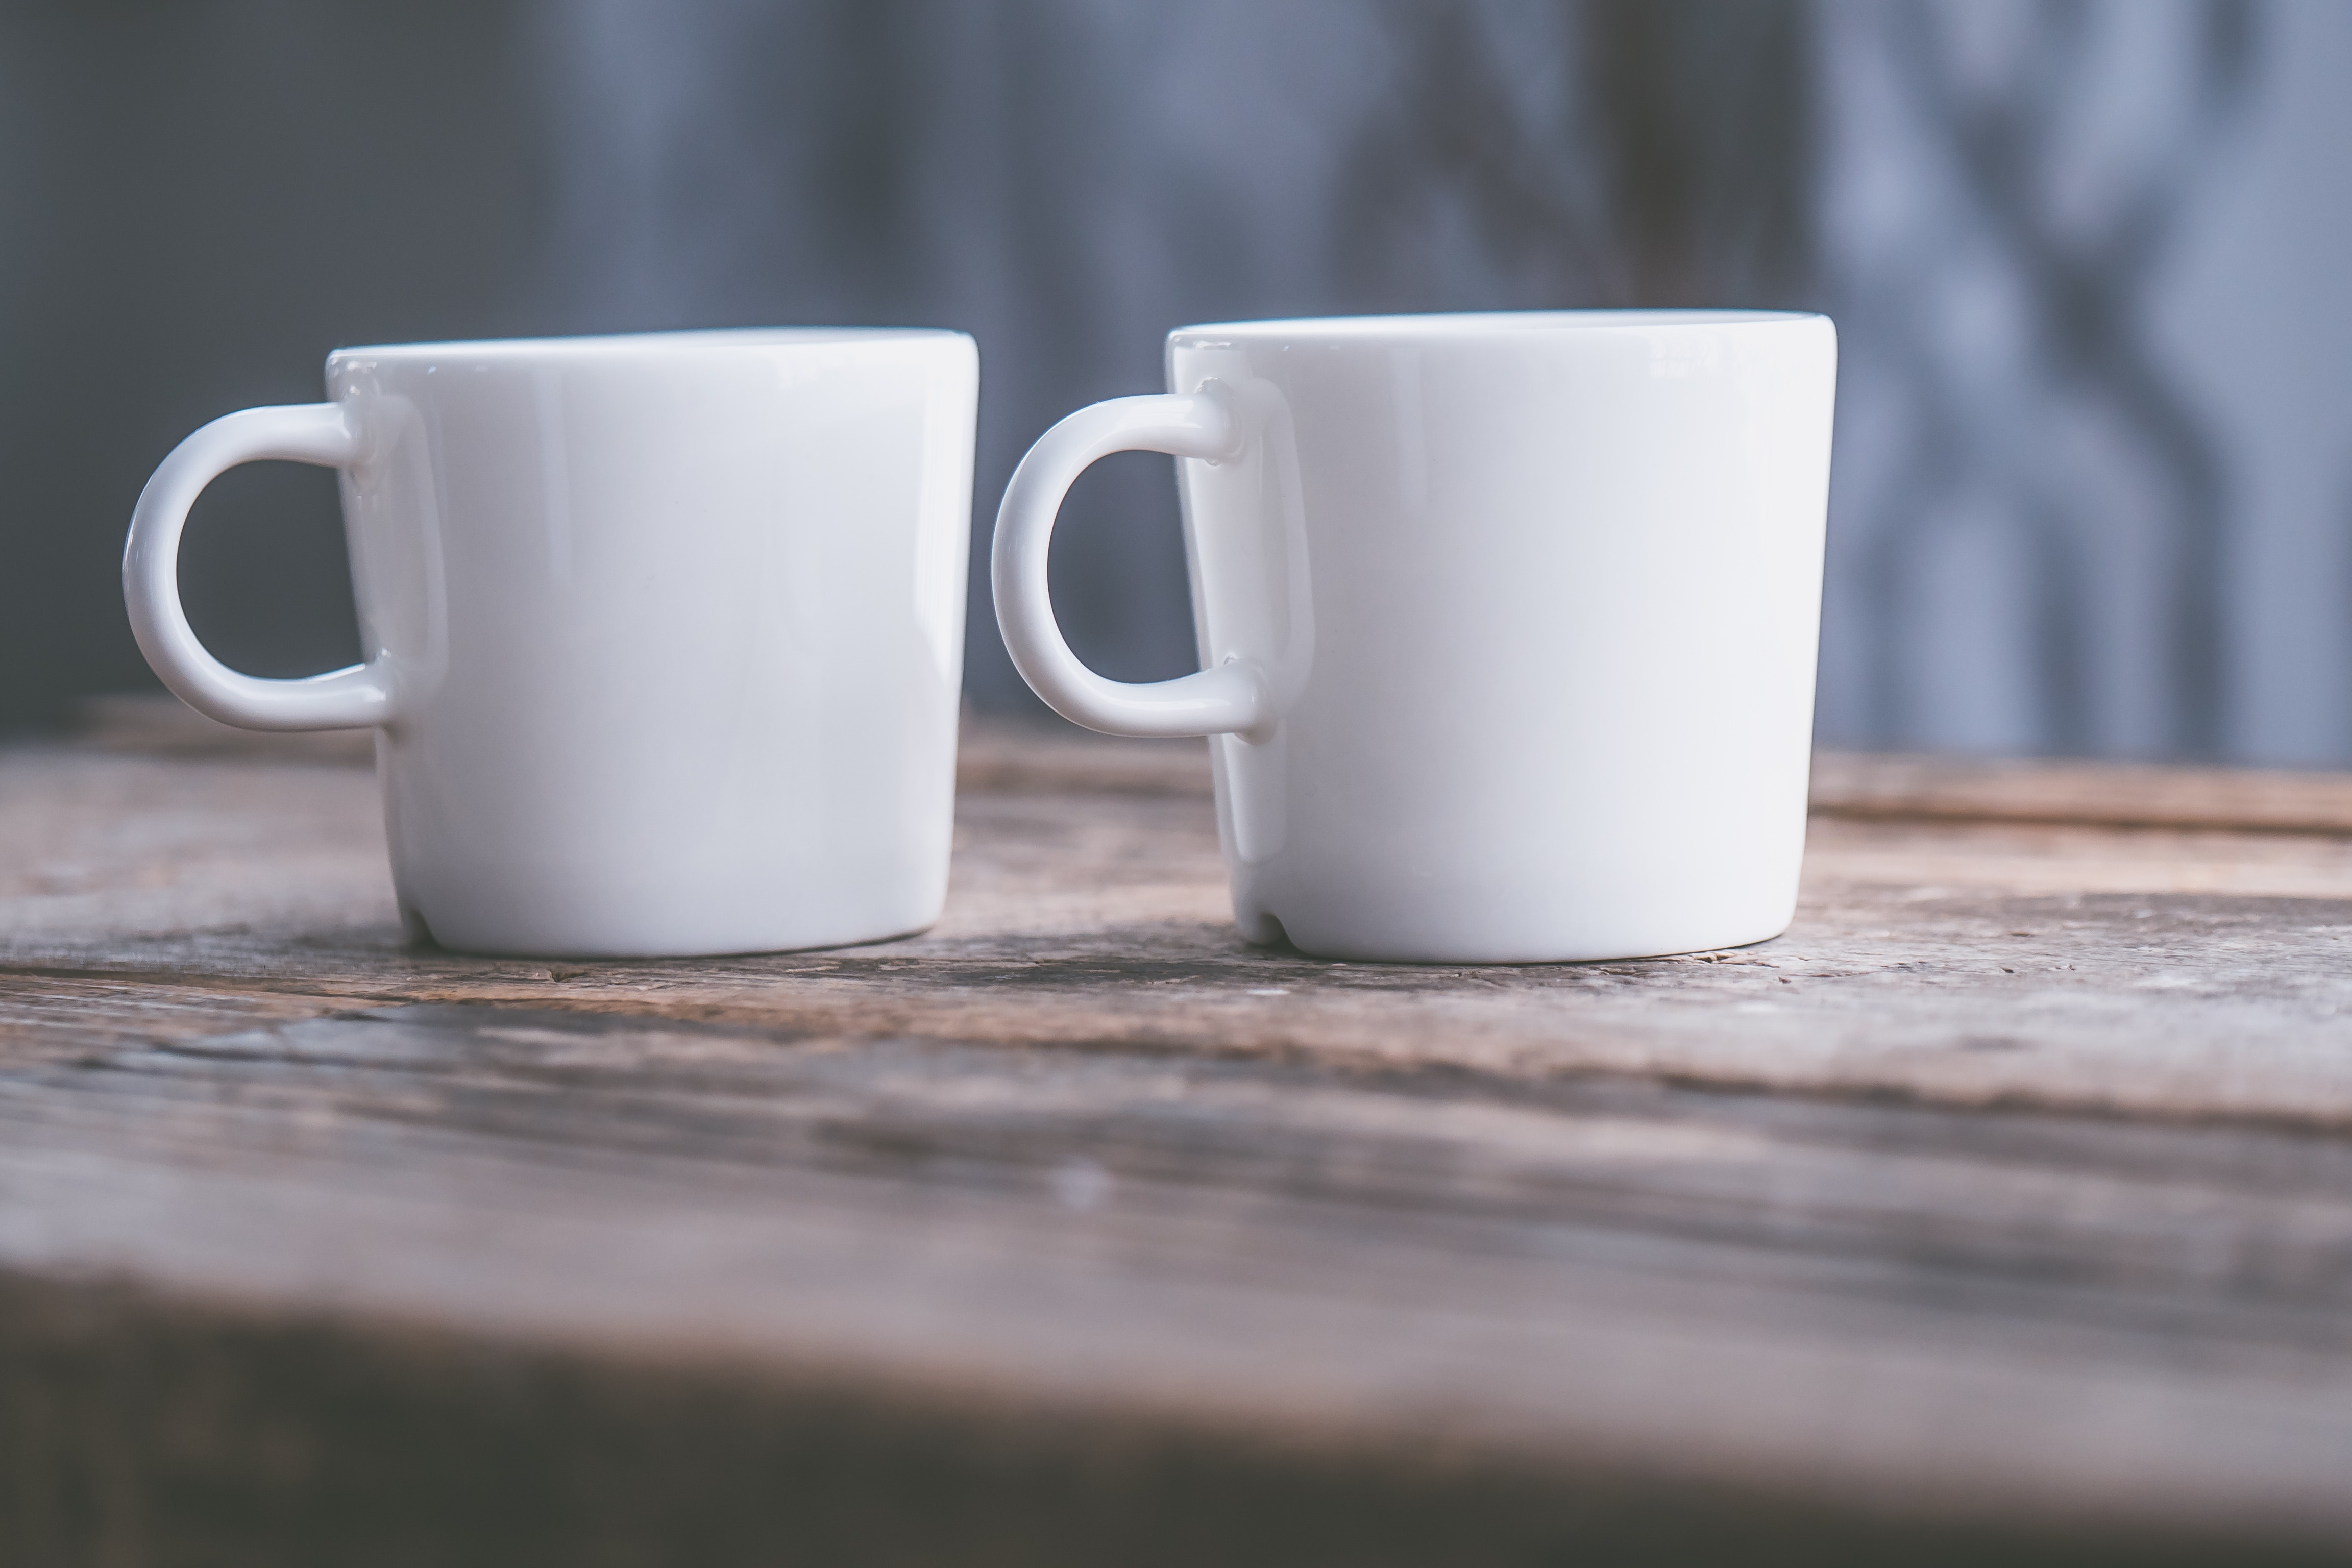cup: (117, 264, 996, 982), (985, 264, 1851, 941)
